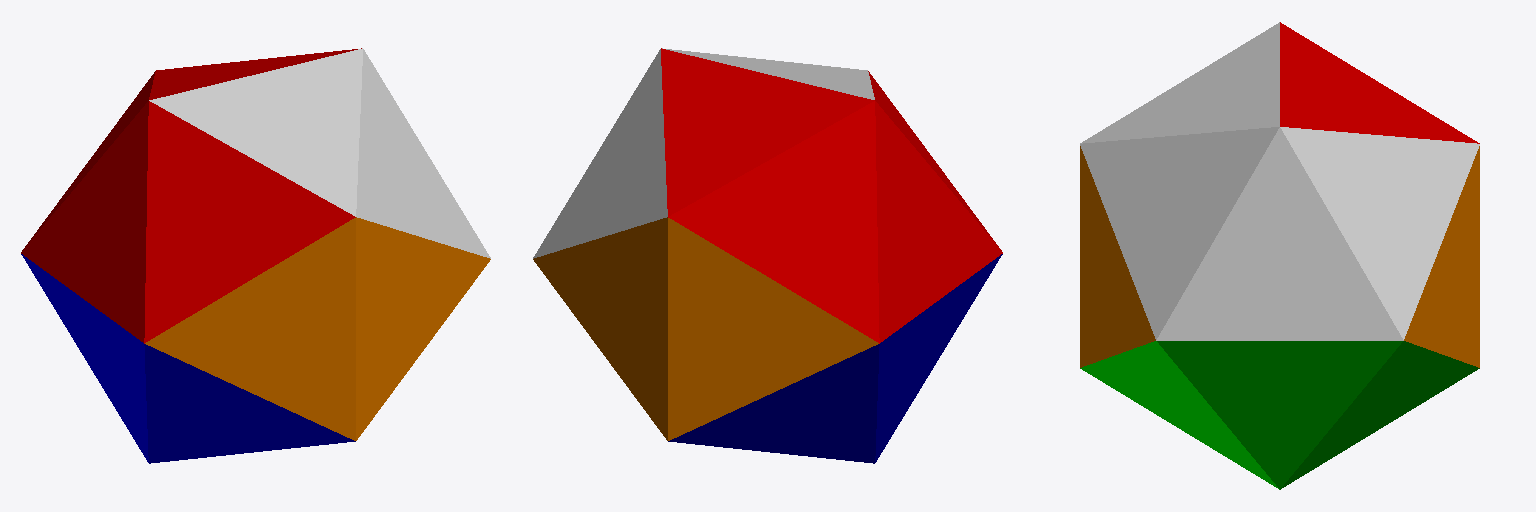
File: platonoid.obj
The picture shows the model from 3 angles: view 1: azimuth 30°, elevation 25°; view 2: azimuth 150°, elevation 25°; view 3: azimuth 270°, elevation 25°; orthographic projection.
Visible parts, largest first — view 1: platonoid; view 2: platonoid; view 3: platonoid.
Boxes of the visible parts, box(x1,y1,x2,y2) form: platonoid: box(21, 48, 490, 463); platonoid: box(533, 48, 1002, 463); platonoid: box(1080, 22, 1479, 489).
Size of the model in its own units: 0.8507 by 0.8507 by 0.8507.